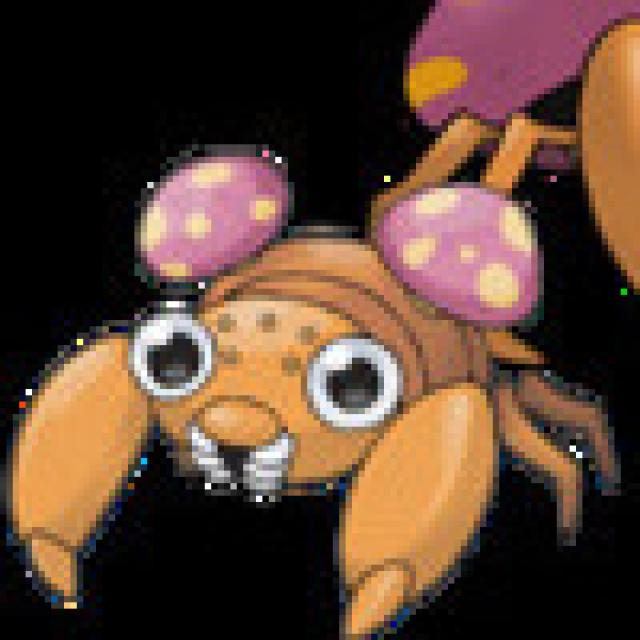Paras: (0, 152, 602, 620)
